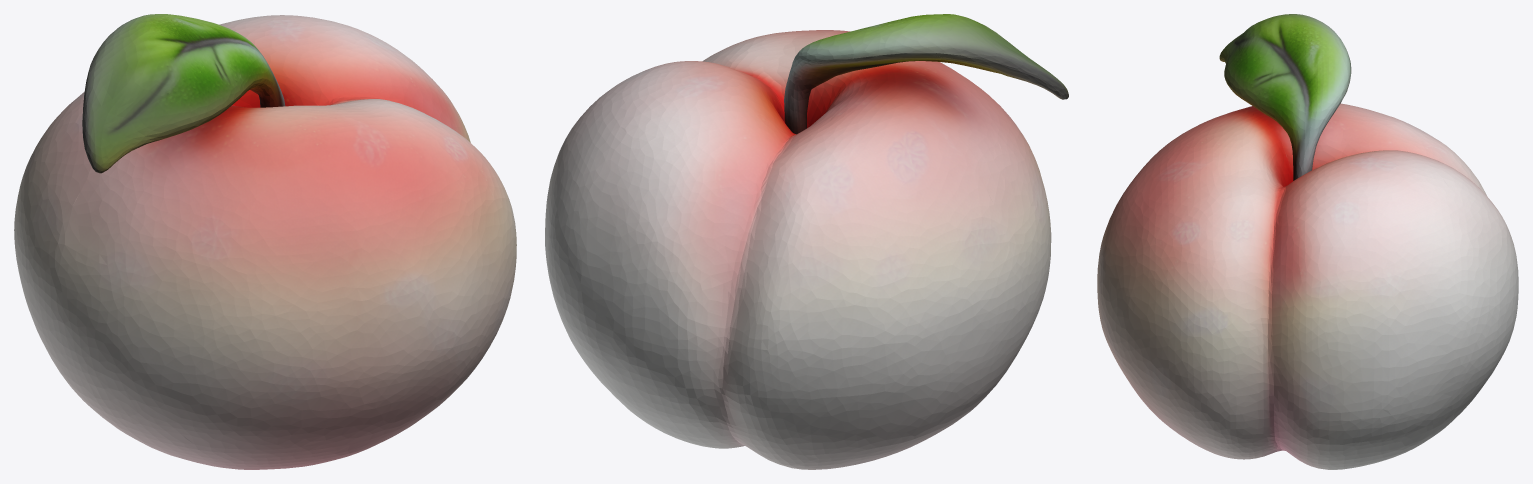
The model's file is peachy.glb.
3 renders of one model, left to right at view 1: azimuth 30°, elevation 25°; view 2: azimuth 150°, elevation 25°; view 3: azimuth 270°, elevation 25°, orthographic. The views are drawn at different scales.
Size of the model in its own units: 100 by 95.76 by 99.93.
Materials: 1 (1 with a texture image).
